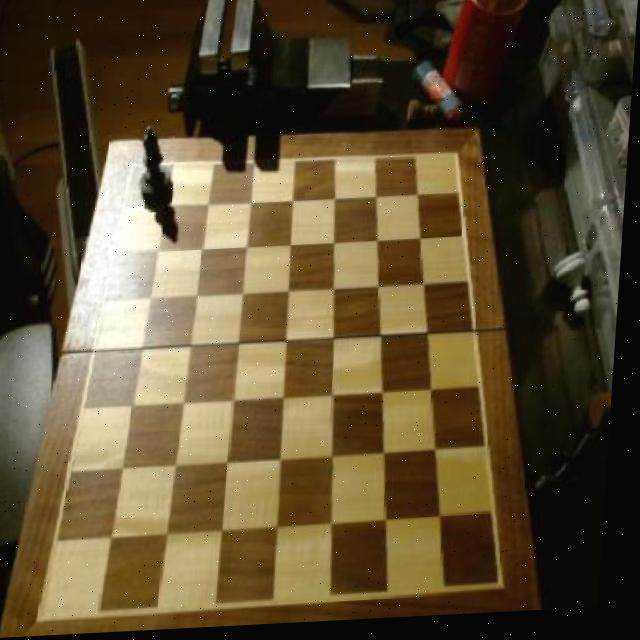bishop: (138, 123, 178, 210)
